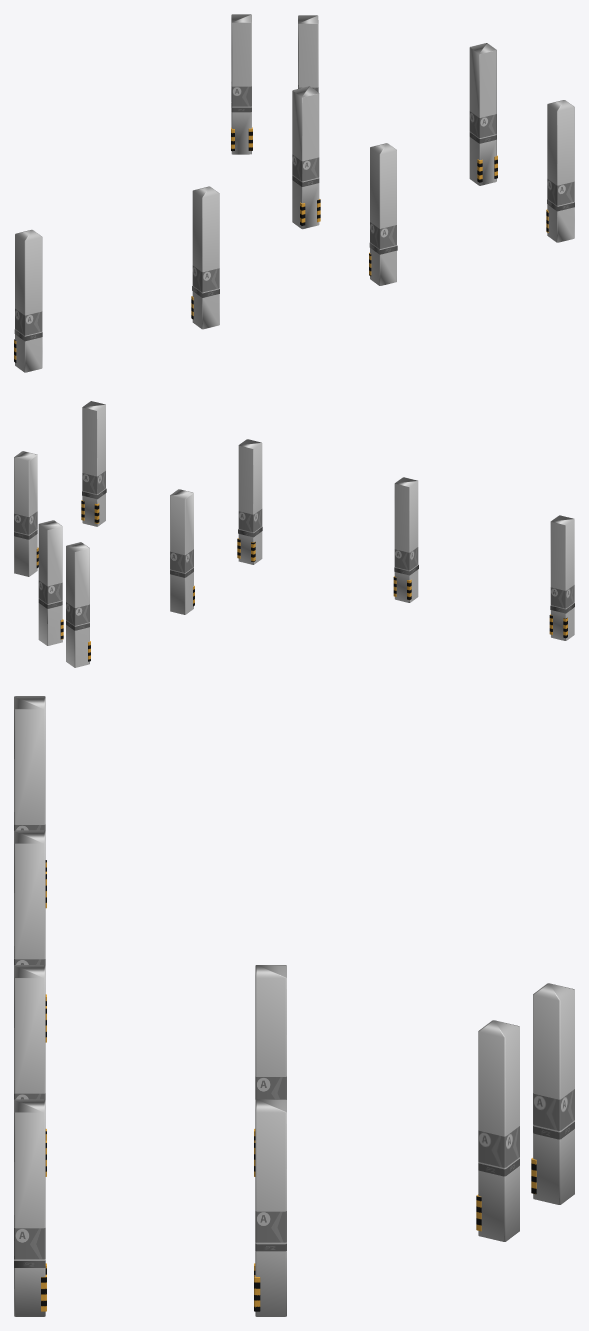
File: WPLPillars01.fbx
The picture shows the model from 3 angles, top to bottom: view 1: azimuth 30°, elevation 25°; view 2: azimuth 150°, elevation 25°; view 3: azimuth 270°, elevation 25°; orthographic projection. The views are drawn at different scales.
Visible parts, largest first — view 1: Pillars 01.Shape; view 2: Pillars 01.Shape; view 3: Pillars 01.Shape.
Boxes of the visible parts, bbox=[...] form: Pillars 01.Shape: bbox=[14, 14, 574, 372]; Pillars 01.Shape: bbox=[14, 401, 574, 667]; Pillars 01.Shape: bbox=[14, 696, 574, 1316].
Size of the model in its own units: 2791 by 636 by 1585.
Materials: 4 (3 with a texture image).
